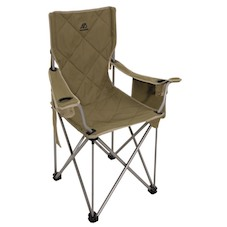chair: (33, 8, 209, 226)
